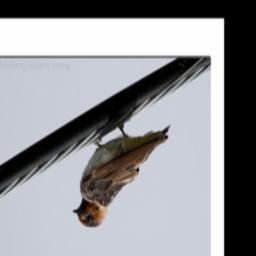Swallow: (71, 118, 174, 230)
